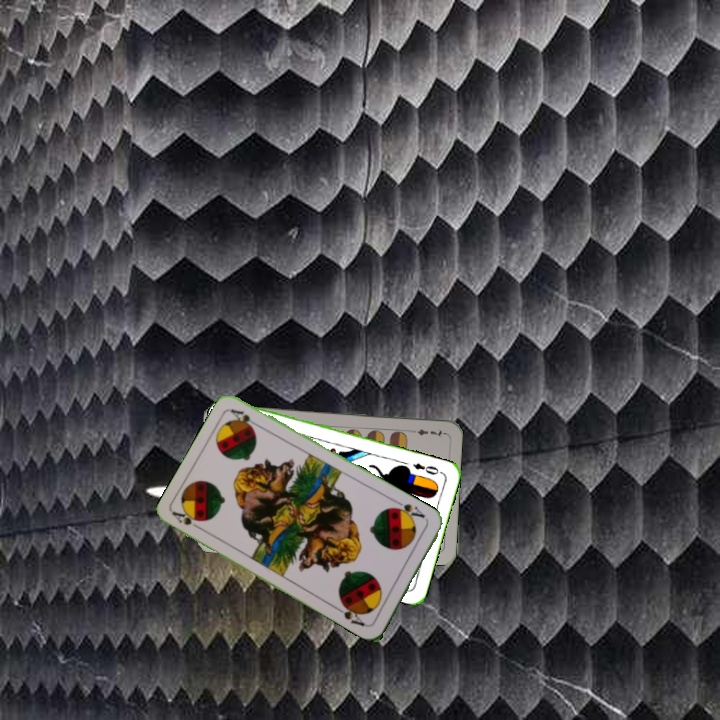E7: (406, 425, 447, 439)
EO: (409, 459, 441, 477)
SA: (390, 497, 427, 523), (169, 508, 206, 534)
